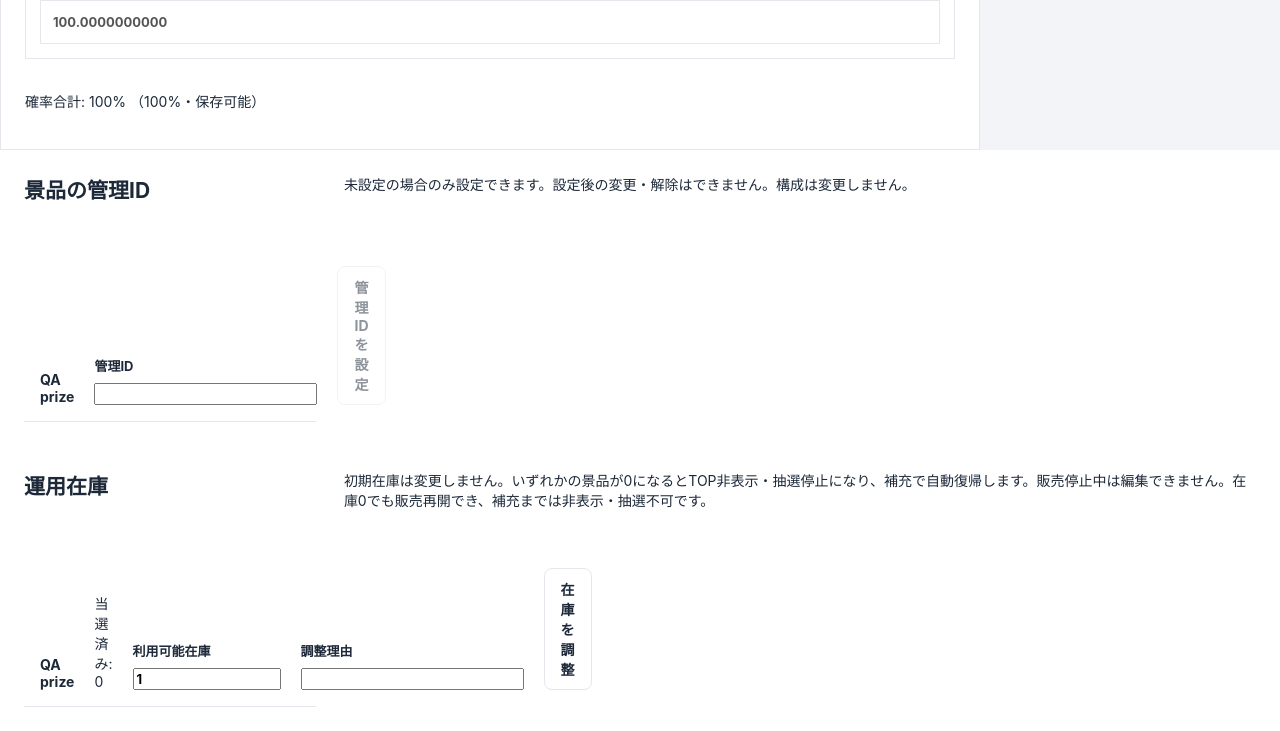
Test: login_daily standard Banner picker › backfills only the unset published Prize ID without enabling composition edits
(page scrolled)
Step 1. Type "CARD-A" into the field labelled "管理ID" → (206, 394), box [94,383,318,405]
(page scrolled)
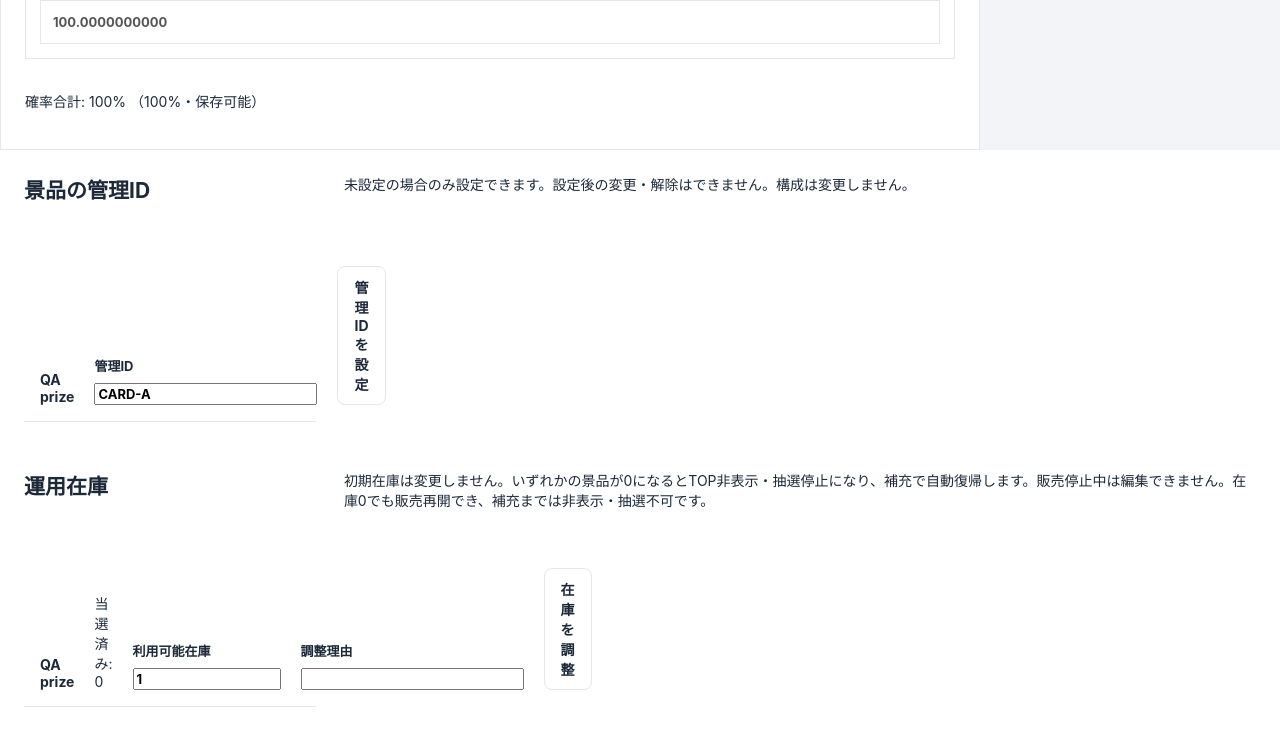
Step 2. Click the button "管理IDを設定" → (362, 335), box [338,266,386,405]
(page scrolled)
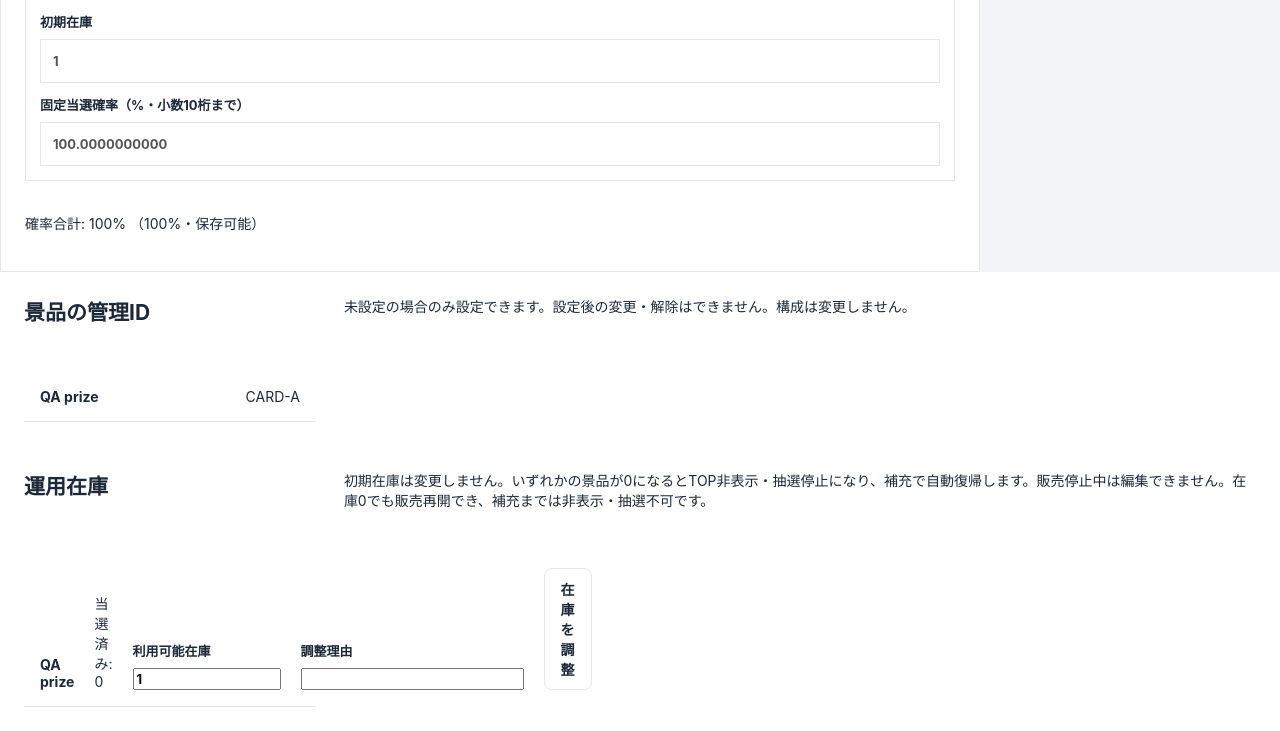
Result: the text "CARD-A" is shown at [246,388,300,405]
Result: the button "管理IDを設定" is gone
